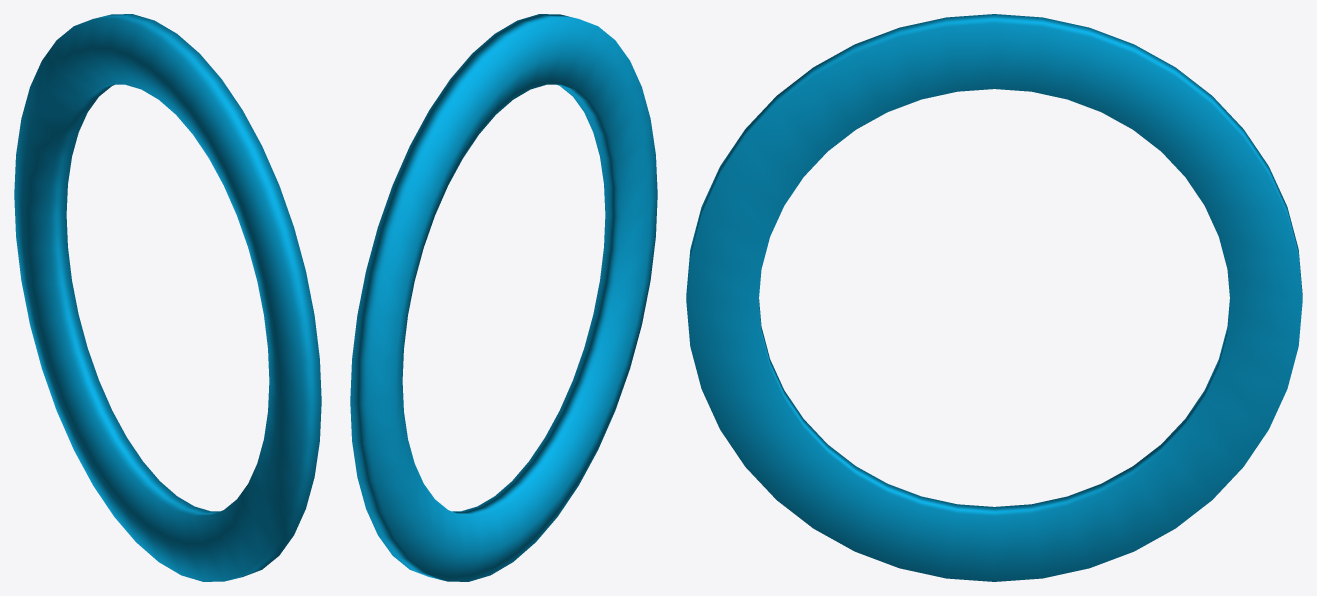
The model's file is Washing_Machine_Door_Lod0.fbx.
3 renders of one model, left to right at view 1: azimuth 30°, elevation 25°; view 2: azimuth 150°, elevation 25°; view 3: azimuth 270°, elevation 25°, orthographic. The views are drawn at different scales.
Parts seen in each view (by area): view 1: Washing_Machine_Door_Lod0; view 2: Washing_Machine_Door_Lod0; view 3: Washing_Machine_Door_Lod0.
Part boxes in pixels (box(x1,y1,x2,y2)): Washing_Machine_Door_Lod0: box(14, 14, 321, 581); Washing_Machine_Door_Lod0: box(350, 14, 657, 581); Washing_Machine_Door_Lod0: box(686, 14, 1302, 581).
Bounding box in the file's own units: 2.43 × 44 × 44.
